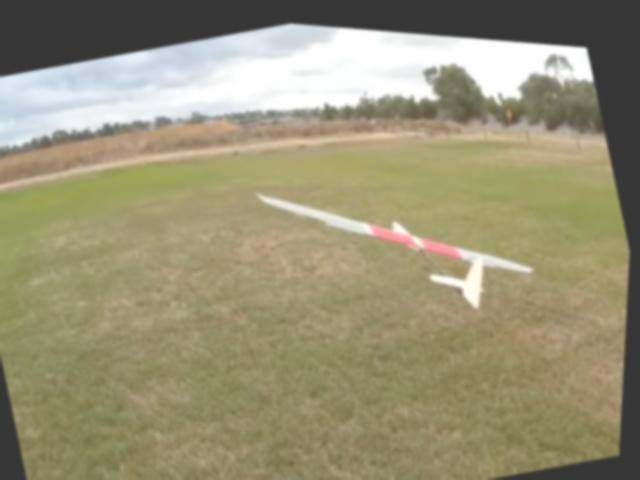uav: (241, 106, 556, 372)
